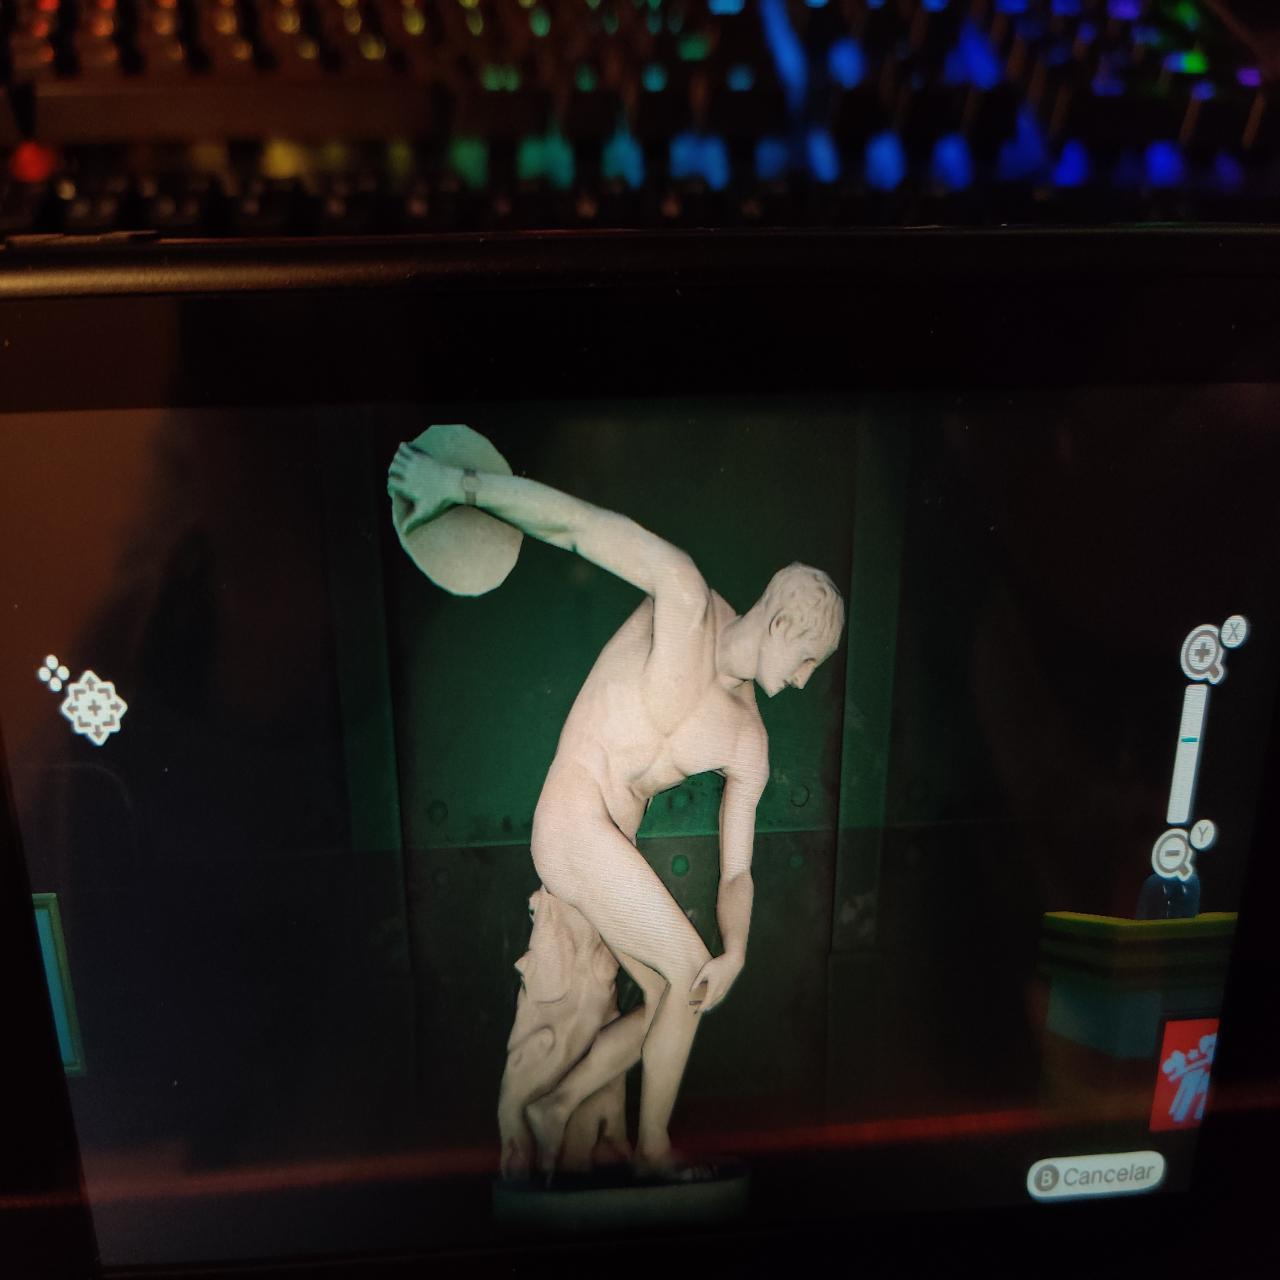DiskobolosFake: (388, 418, 856, 1193)
